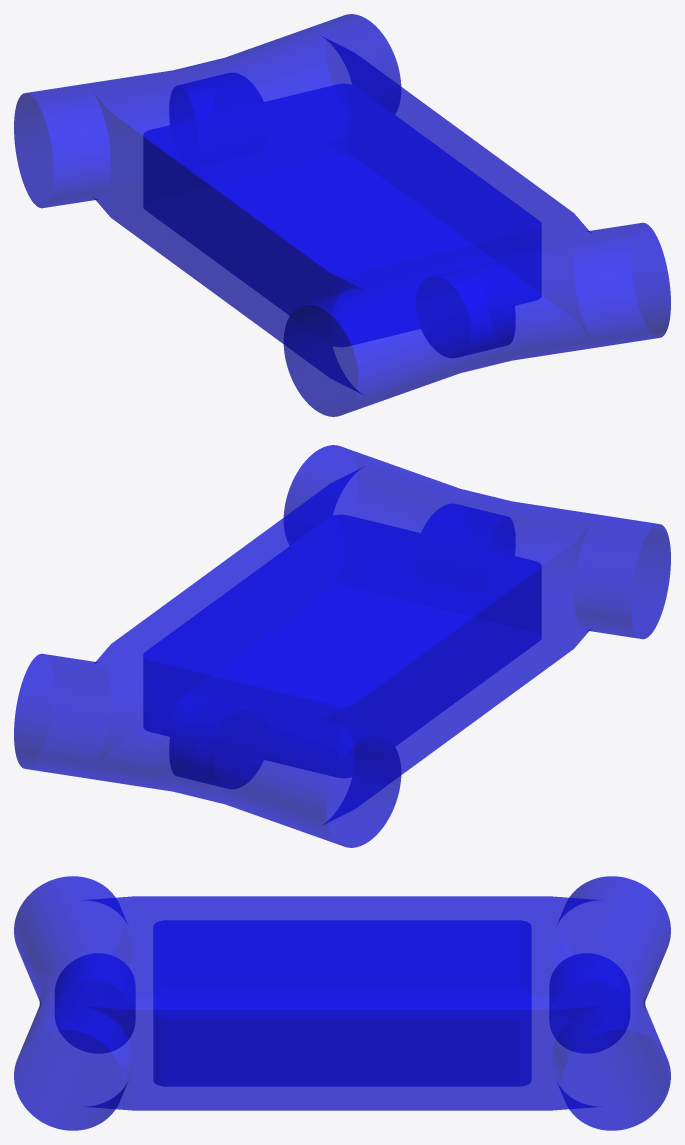
Rendered from soft_body_v2_simplified_10deg.obj.
3 views of the same model, one above another, from view 1: azimuth 30°, elevation 25°; view 2: azimuth 150°, elevation 25°; view 3: azimuth 270°, elevation 25° (orthographic). The views are drawn at different scales.
Visible parts, largest first — view 1: Solid1; view 2: Solid1; view 3: Solid1.
Boxes of the visible parts, bbox=[...] form: Solid1: bbox=[14, 14, 670, 416]; Solid1: bbox=[14, 445, 670, 847]; Solid1: bbox=[14, 876, 670, 1130].
Bounding box in the file's own units: 214 × 62 × 367.
